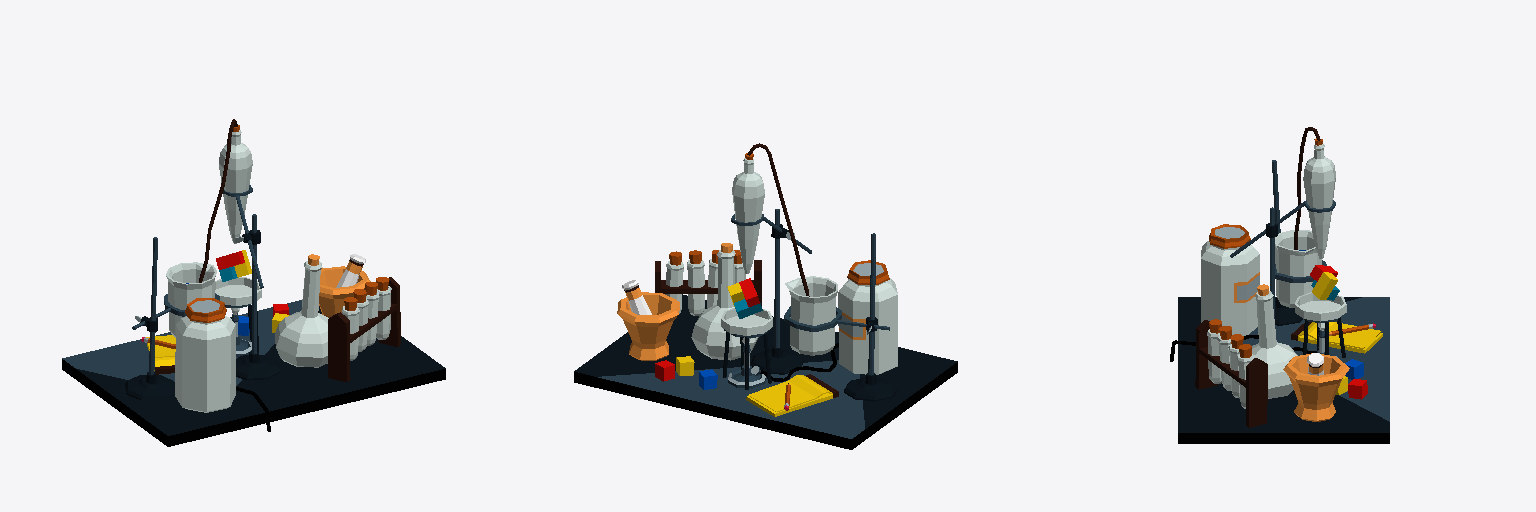
3 renders of one model, left to right at view 1: azimuth 30°, elevation 25°; view 2: azimuth 150°, elevation 25°; view 3: azimuth 270°, elevation 25°, orthographic.
Parts seen in each view (by area): view 1: group[number redacted], group[number redacted], group[number redacted], group[number redacted], group[number redacted], group[number redacted], group[number redacted], group[number redacted], group[number redacted], group[number redacted], group[number redacted], group[number redacted] (+2 smaller); view 2: group[number redacted], group[number redacted], group[number redacted], group[number redacted], group[number redacted], group[number redacted], group[number redacted], group[number redacted], group[number redacted], group[number redacted], group[number redacted], group[number redacted] (+3 smaller); view 3: group[number redacted], group[number redacted], group[number redacted], group[number redacted], group[number redacted], group[number redacted], group[number redacted], group[number redacted], group[number redacted], group[number redacted], group[number redacted].
Part boxes in pixels (left/top/right/bottom): group[number redacted]: left=62, top=300, right=445, bottom=446; group[number redacted]: left=175, top=298, right=235, bottom=412; group[number redacted]: left=328, top=277, right=400, bottom=381; group[number redacted]: left=275, top=254, right=328, bottom=367; group[number redacted]: left=219, top=125, right=252, bottom=243; group[number redacted]: left=164, top=262, right=219, bottom=337; group[number redacted]: left=125, top=237, right=174, bottom=399; group[number redacted]: left=236, top=214, right=280, bottom=379; group[number redacted]: left=319, top=266, right=370, bottom=317; group[number redacted]: left=215, top=277, right=261, bottom=351; group[number redacted]: left=216, top=250, right=251, bottom=281; group[number redacted]: left=146, top=335, right=175, bottom=374; group[number redacted]: left=574, top=294, right=957, bottom=449; group[number redacted]: left=838, top=260, right=897, bottom=374; group[number redacted]: left=784, top=276, right=841, bottom=355; group[number redacted]: left=655, top=250, right=761, bottom=315; group[number redacted]: left=617, top=292, right=679, bottom=360; group[number redacted]: left=691, top=243, right=758, bottom=360; group[number redacted]: left=731, top=153, right=764, bottom=273; group[number redacted]: left=746, top=374, right=838, bottom=416; group[number redacted]: left=721, top=308, right=772, bottom=389; group[number redacted]: left=844, top=233, right=897, bottom=401; group[number redacted]: left=751, top=209, right=803, bottom=374; group[number redacted]: left=727, top=278, right=762, bottom=318; group[number redacted]: left=1178, top=297, right=1389, bottom=443; group[number redacted]: left=1201, top=224, right=1259, bottom=335; group[number redacted]: left=1195, top=319, right=1267, bottom=427; group[number redacted]: left=1283, top=353, right=1349, bottom=421; group[number redacted]: left=1275, top=230, right=1326, bottom=307; group[number redacted]: left=1303, top=138, right=1335, bottom=258; group[number redacted]: left=1252, top=284, right=1297, bottom=398; group[number redacted]: left=1295, top=292, right=1346, bottom=357; group[number redacted]: left=1291, top=322, right=1382, bottom=353; group[number redacted]: left=1310, top=265, right=1339, bottom=300; group[number redacted]: left=1272, top=160, right=1302, bottom=325.
Size of the model in its own units: 2.4 by 2.07 by 1.65.